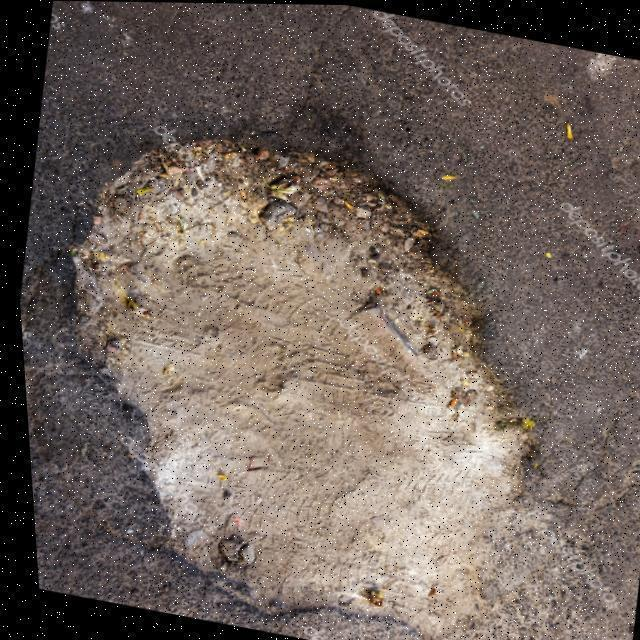Pothole: (70, 135, 535, 620)
